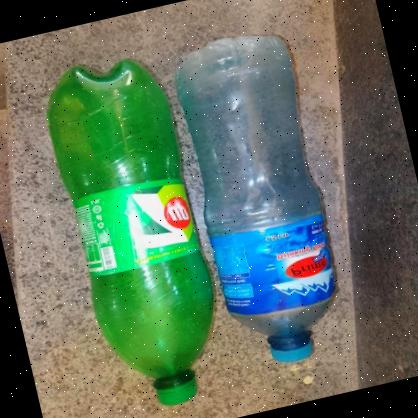bottle: (162, 17, 376, 388), (32, 42, 242, 418)
cap: (255, 326, 328, 373), (145, 364, 210, 412)
label: (65, 162, 204, 284), (211, 208, 352, 324)
